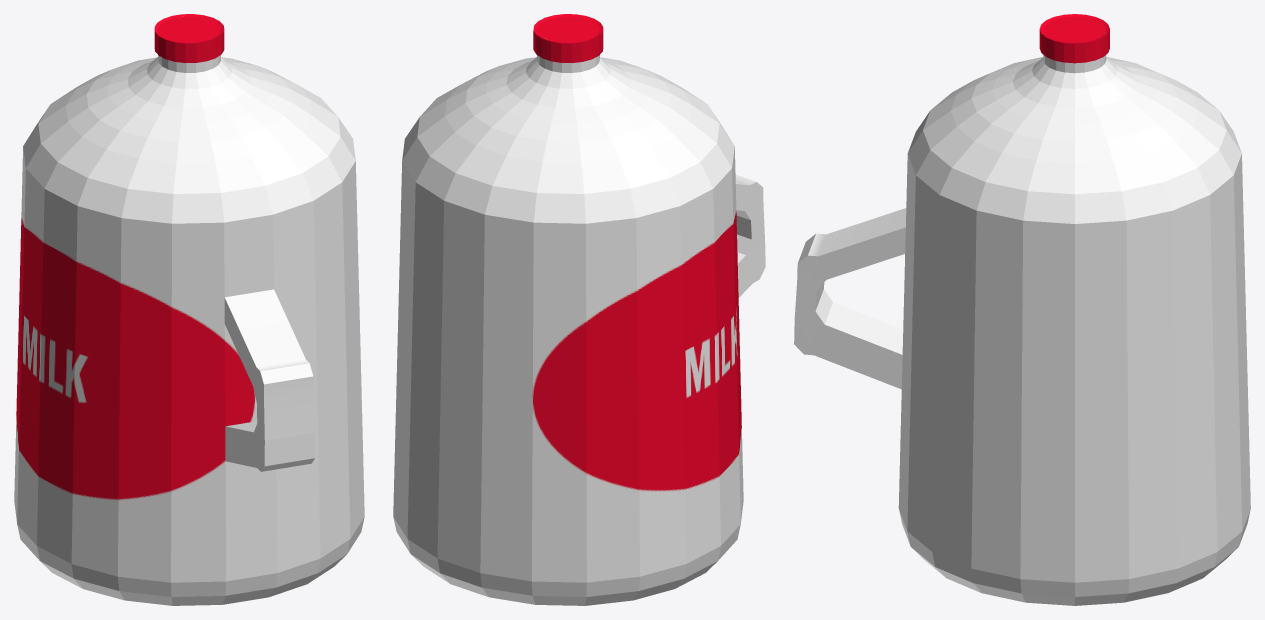
Rendered from MilkJug.obj.
3 views of the same model, side by side, from view 1: azimuth 30°, elevation 25°; view 2: azimuth 150°, elevation 25°; view 3: azimuth 270°, elevation 25° (orthographic).
Bounding box in the file's own units: 2.4 × 3.97 × 3.12.
1 material, 1 textured.
